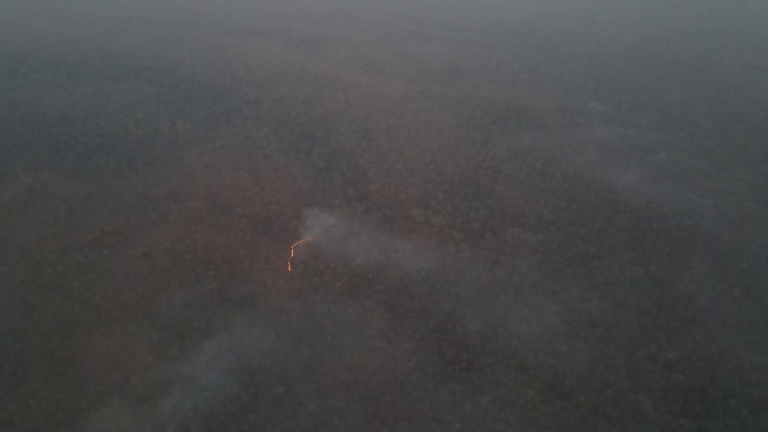fire: (282, 234, 318, 273)
smoke: (115, 318, 276, 432), (301, 204, 411, 268)
